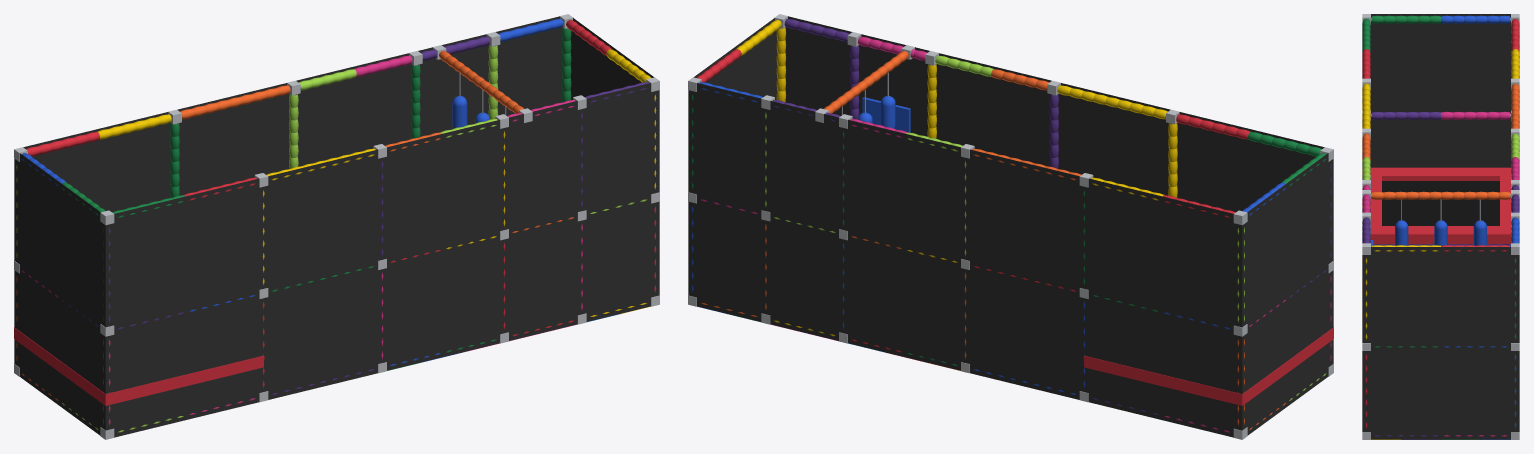
Rendered from web.glb.
3 views of the same model, side by side, from view 1: azimuth 30°, elevation 25°; view 2: azimuth 150°, elevation 25°; view 3: azimuth 270°, elevation 25° (orthographic). The views are drawn at different scales.
Parts seen in each view (by area): view 1: rede, isotubo, acolchoado, metal; view 2: rede, isotubo, acolchoado, metal, plataforma; view 3: rede, isotubo, acolchoado, borracha, metal.
Part boxes in pixels (bbox=[...]): rede: bbox=[14, 16, 659, 437]; isotubo: bbox=[16, 19, 656, 432]; acolchoado: bbox=[14, 96, 489, 405]; metal: bbox=[14, 14, 659, 439]; rede: bbox=[688, 16, 1333, 437]; isotubo: bbox=[691, 19, 1331, 432]; acolchoado: bbox=[858, 96, 1333, 405]; metal: bbox=[688, 14, 1333, 439]; plataforma: bbox=[862, 97, 910, 132]; rede: bbox=[1362, 14, 1519, 439]; isotubo: bbox=[1362, 15, 1519, 436]; acolchoado: bbox=[1362, 167, 1519, 245]; borracha: bbox=[1382, 181, 1499, 225]; metal: bbox=[1362, 14, 1519, 439].
Bounding box in the file's own units: 7 × 2.7 × 2.
9 materials, 9 textured.
